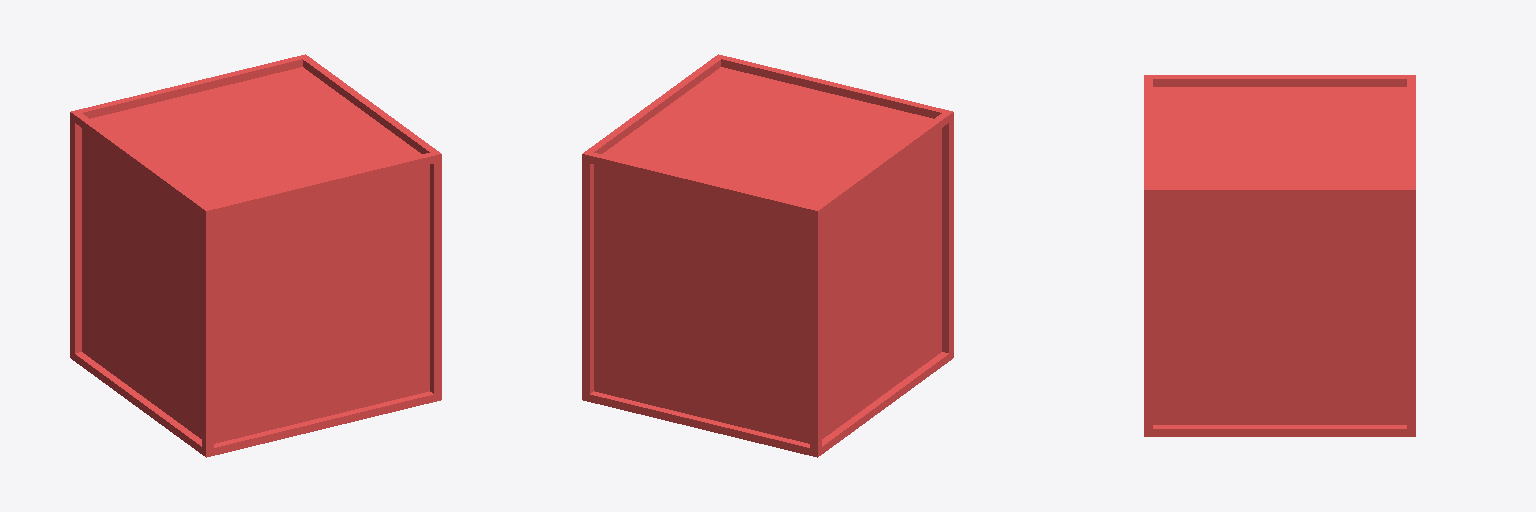
The model's file is BoxVisualizer.obj.
3 renders of one model, left to right at view 1: azimuth 30°, elevation 25°; view 2: azimuth 150°, elevation 25°; view 3: azimuth 270°, elevation 25°, orthographic.
Parts seen in each view (by area): view 1: BoxVisualizer; view 2: BoxVisualizer; view 3: BoxVisualizer.
Part boxes in pixels (left/top/right/bottom): BoxVisualizer: left=70, top=54, right=441, bottom=457; BoxVisualizer: left=582, top=54, right=953, bottom=457; BoxVisualizer: left=1144, top=75, right=1415, bottom=436.
Bounding box in the file's own units: 1 × 1 × 1.